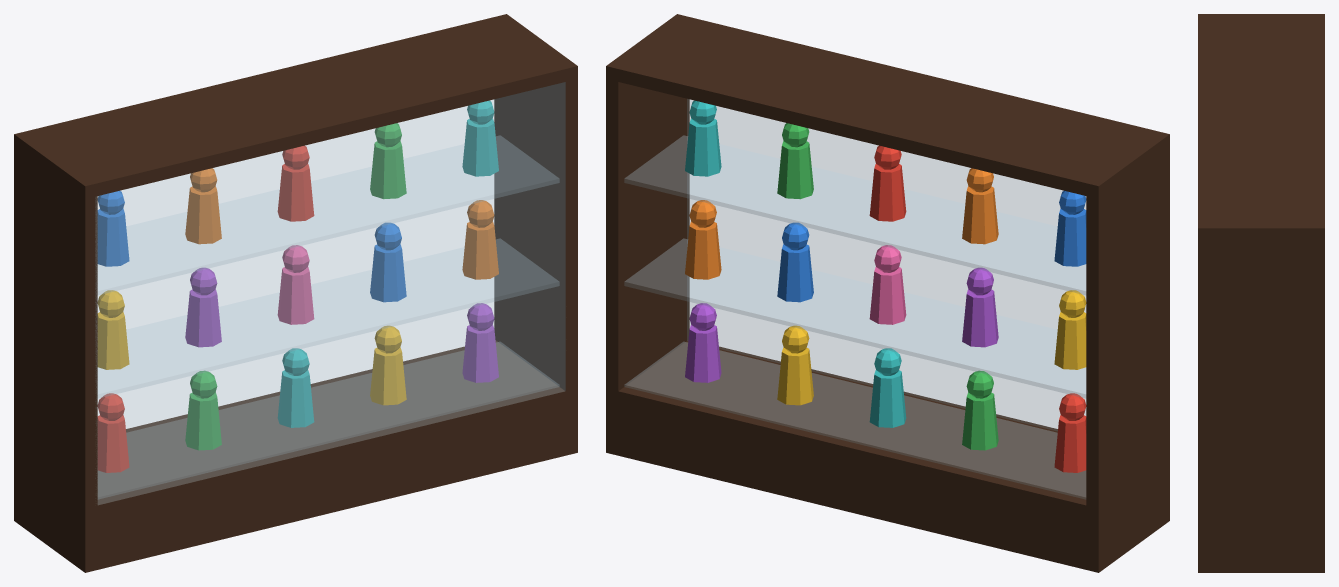
The model's file is collector_case.glb.
The picture shows the model from 3 angles, left to right: view 1: azimuth 30°, elevation 25°; view 2: azimuth 150°, elevation 25°; view 3: azimuth 270°, elevation 25°; orthographic projection. The views are drawn at different scales.
Visible parts, largest first — view 1: glass_case_glass, shelves_case_glass, base_case_frame, posts_case_frame, top_case_frame, figures_4, figures_6, figures_5, figures_3, figures_1, figures_2, figures_0 (+1 smaller); view 2: glass_case_glass, shelves_case_glass, base_case_frame, posts_case_frame, top_case_frame, figures_4, figures_6, figures_5, figures_3, figures_1, figures_0, figures_2 (+1 smaller); view 3: posts_case_frame, top_case_frame, base_case_frame.
Boxes of the visible parts, x1,y1,x2,y2 form: glass_case_glass: [95, 82, 565, 504]; shelves_case_glass: [98, 136, 558, 498]; base_case_frame: [14, 340, 577, 572]; posts_case_frame: [14, 15, 577, 508]; top_case_frame: [14, 14, 577, 198]; figures_4: [185, 267, 498, 382]; figures_6: [277, 100, 498, 427]; figures_5: [185, 168, 498, 279]; figures_3: [185, 123, 406, 450]; figures_1: [97, 290, 406, 405]; figures_2: [97, 190, 406, 302]; figures_0: [97, 145, 314, 472]; glass_case_glass: [687, 99, 1085, 430]; shelves_case_glass: [624, 135, 1085, 499]; base_case_frame: [606, 340, 1169, 572]; posts_case_frame: [606, 14, 1169, 508]; top_case_frame: [606, 14, 1169, 198]; figures_4: [685, 267, 998, 382]; figures_6: [685, 100, 906, 427]; figures_5: [685, 168, 998, 279]; figures_3: [777, 123, 998, 450]; figures_1: [777, 290, 1086, 405]; figures_0: [869, 145, 1086, 472]; figures_2: [777, 190, 1086, 302]; posts_case_frame: [1198, 14, 1324, 515]; top_case_frame: [1198, 14, 1324, 239]; base_case_frame: [1198, 515, 1324, 572].
Bounding box in the file's own units: 2.4 × 1.8 × 0.6.
